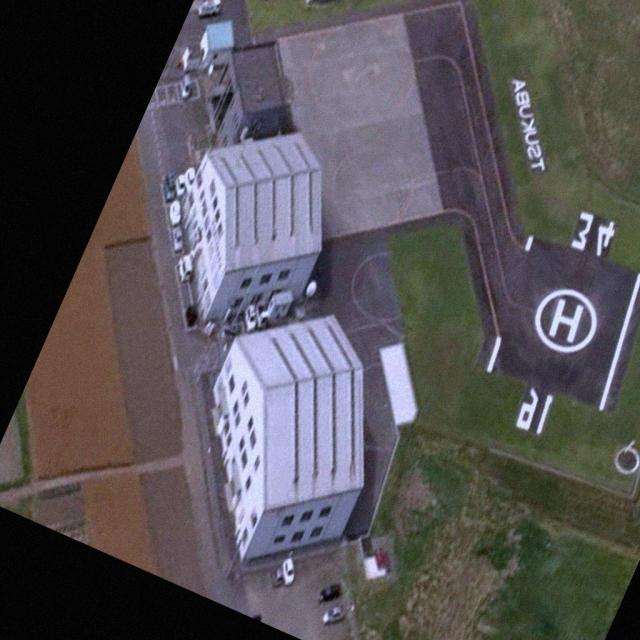helipad: (532, 284, 599, 356)
